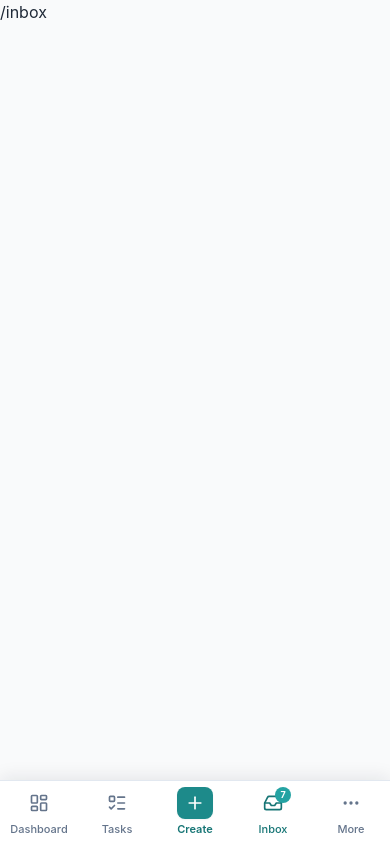
it: MobileBottomNavigation › navigates to New Plan from the Create sheet and marks Create active
Click the button "Create". click: click(195, 812)
box: left=156, top=781, right=234, bottom=843
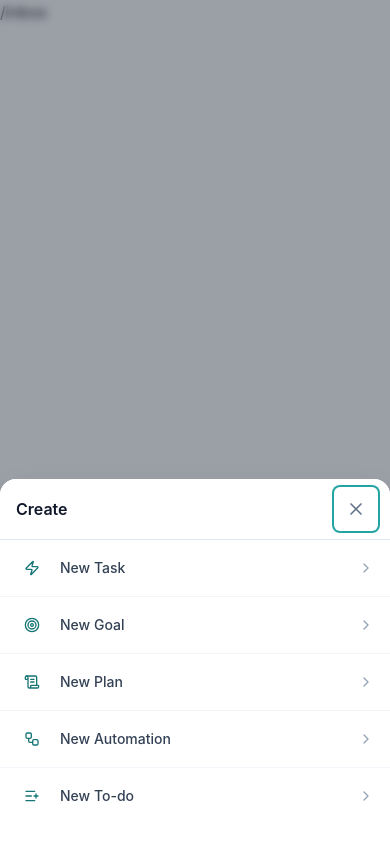
Click the link "New Plan". click: click(91, 682)
box: left=24, top=673, right=374, bottom=690
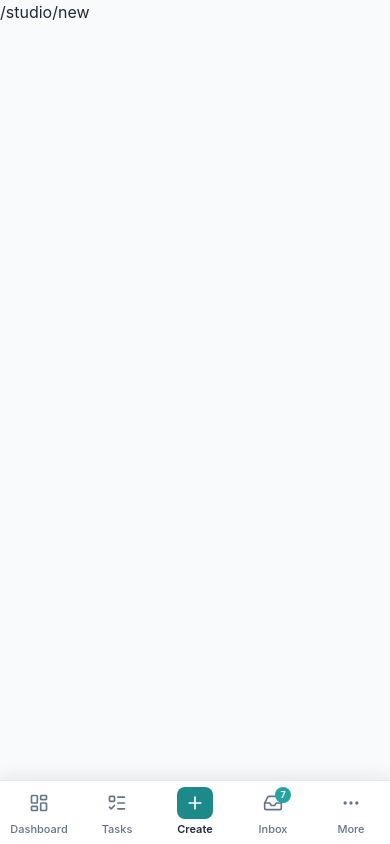
Expected: the text with test id "location" reads "/studio/new", left=0, top=2, right=90, bottom=22
Expected: the dialog is gone
